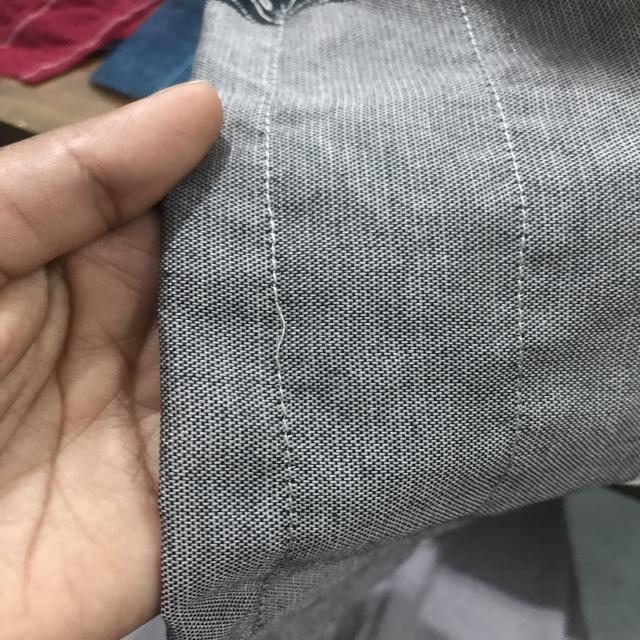skip: (255, 289, 309, 366)
